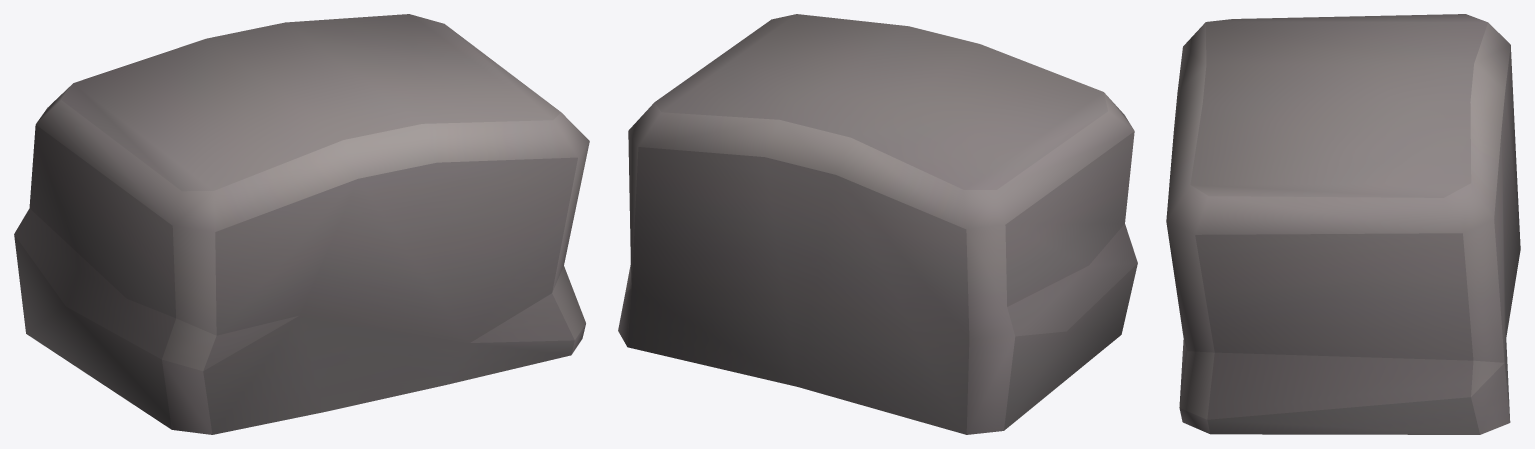
File: elf_stone_small.fbx
3 renders of one model, left to right at view 1: azimuth 30°, elevation 25°; view 2: azimuth 150°, elevation 25°; view 3: azimuth 270°, elevation 25°, orthographic. The views are drawn at different scales.
Parts seen in each view (by area): view 1: elf_stone_small; view 2: elf_stone_small; view 3: elf_stone_small.
Part boxes in pixels (left/top/right/bottom): elf_stone_small: left=14, top=14, right=589, bottom=434; elf_stone_small: left=618, top=14, right=1137, bottom=434; elf_stone_small: left=1166, top=14, right=1520, bottom=434.
Bounding box in the file's own units: 2.1 × 1.22 × 1.54.
